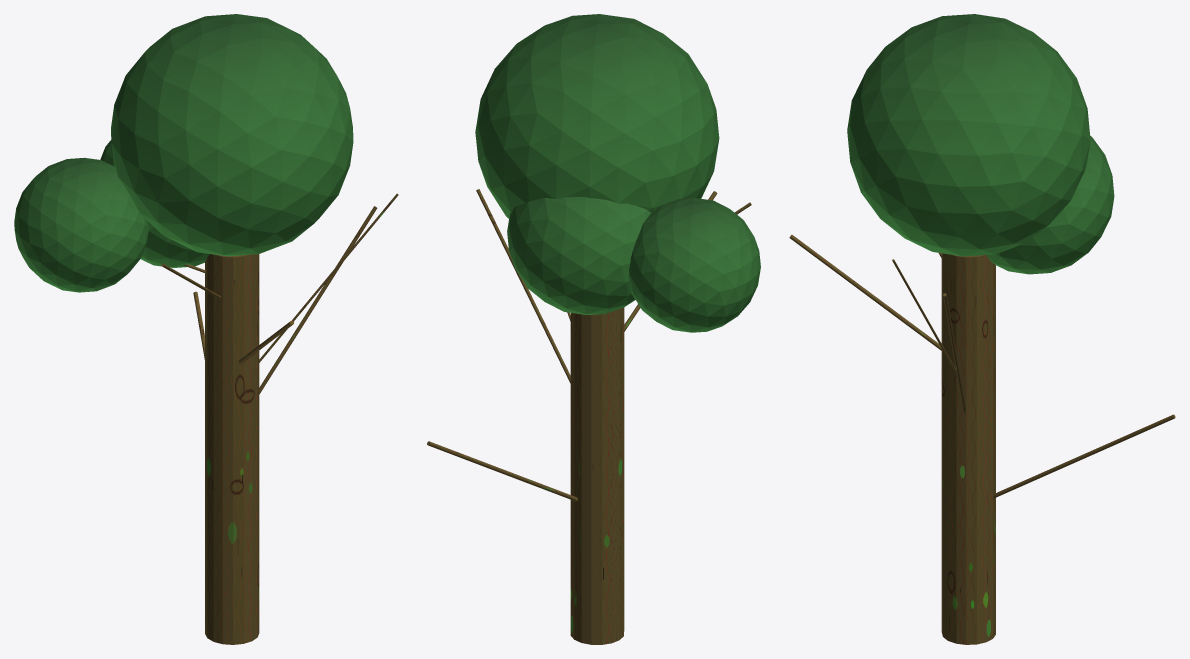
Rendered from tree_11.glb.
3 views of the same model, side by side, from view 1: azimuth 30°, elevation 25°; view 2: azimuth 150°, elevation 25°; view 3: azimuth 270°, elevation 25° (orthographic).
Visible parts, largest first — view 1: tree_11_crown0, tree_11_trunk, tree_11_crown1, tree_11_crown2, tree_11_branch0, tree_11_branch2; view 2: tree_11_crown0, tree_11_trunk, tree_11_crown1, tree_11_crown2, tree_11_branch0, tree_11_branch3; view 3: tree_11_crown0, tree_11_trunk, tree_11_crown2, tree_11_branch3, tree_11_branch1.
Part boxes in pixels (x1=…): tree_11_crown0: x1=111, y1=14, x2=353, y2=256; tree_11_trunk: x1=205, y1=254, x2=259, y2=644; tree_11_crown1: x1=14, y1=157, x2=148, y2=292; tree_11_crown2: x1=100, y1=140, x2=209, y2=267; tree_11_branch0: x1=259, y1=206, x2=377, y2=394; tree_11_branch2: x1=259, y1=193, x2=398, y2=362; tree_11_crown0: x1=475, y1=14, x2=719, y2=218; tree_11_trunk: x1=570, y1=307, x2=624, y2=644; tree_11_crown1: x1=629, y1=198, x2=760, y2=332; tree_11_crown2: x1=507, y1=197, x2=651, y2=314; tree_11_branch0: x1=476, y1=189, x2=570, y2=383; tree_11_branch3: x1=427, y1=441, x2=578, y2=501; tree_11_crown0: x1=847, y1=14, x2=1090, y2=256; tree_11_trunk: x1=941, y1=253, x2=995, y2=644; tree_11_crown2: x1=987, y1=135, x2=1114, y2=274; tree_11_branch3: x1=993, y1=414, x2=1175, y2=498; tree_11_branch1: x1=789, y1=235, x2=941, y2=350.
Bounding box in the file's own units: 1.8 × 3.34 × 1.92.
11 materials, 11 textured.
